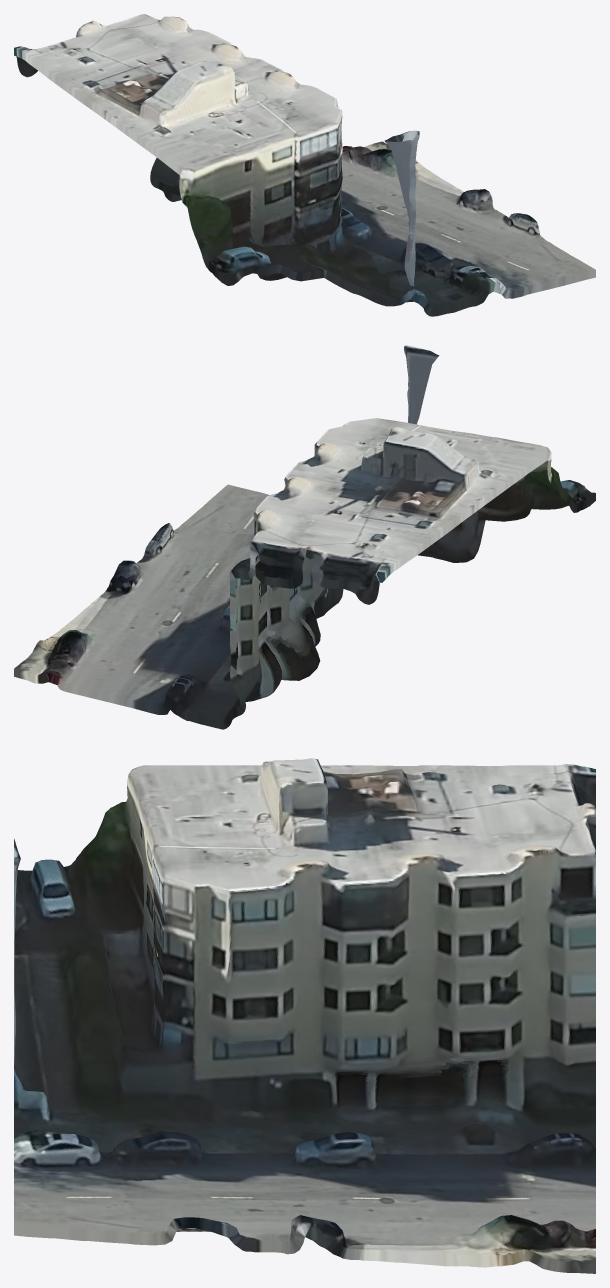
The model's file is z20-167749-405191-h0-yup-uvflip-v3-world.glb.
3 views of the same model, one above another, from view 1: azimuth 30°, elevation 25°; view 2: azimuth 150°, elevation 25°; view 3: azimuth 270°, elevation 25° (orthographic). The views are drawn at different scales.
Bounding box in the file's own units: 30.16 × 18.32 × 30.32.
1 material, 1 textured.
